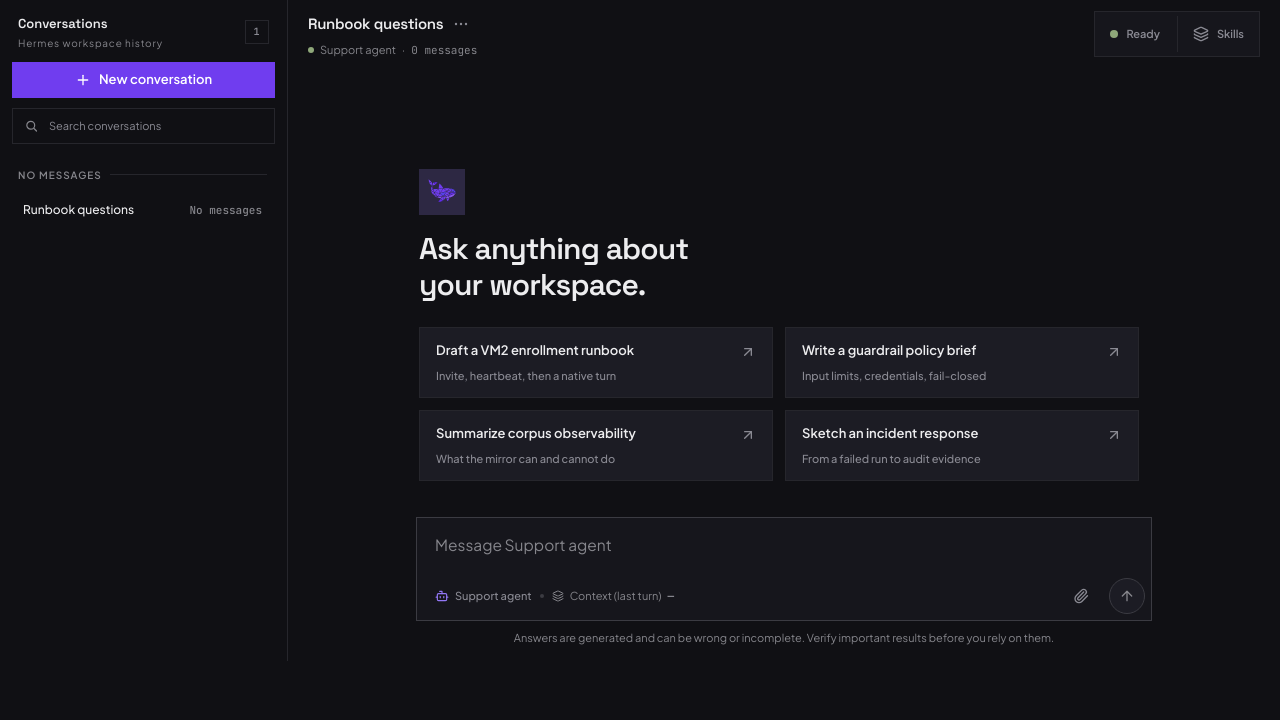
Test: chat composer › keeps the message when the send fails, since nothing else can recover it
Click the text box named "Chat message" at point(784, 548), box [423,522,1145,574]
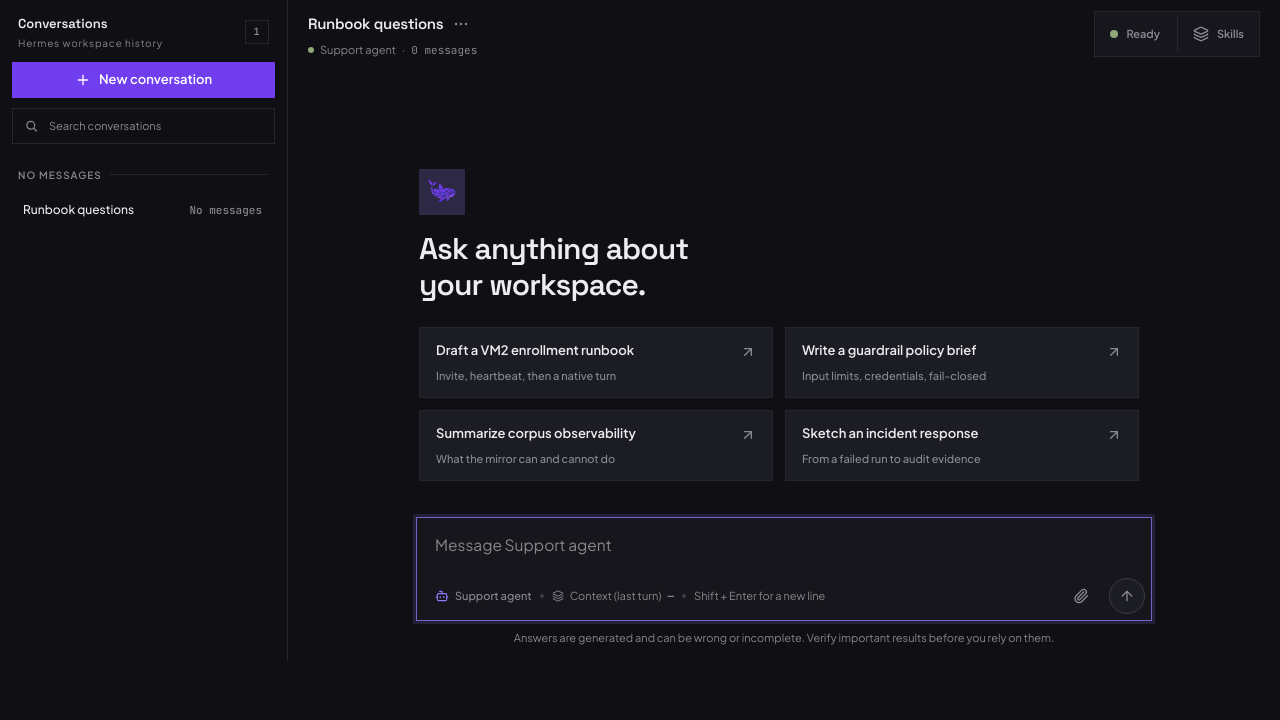
Type keys "Summarise the incident runbook for the on-call engineer"
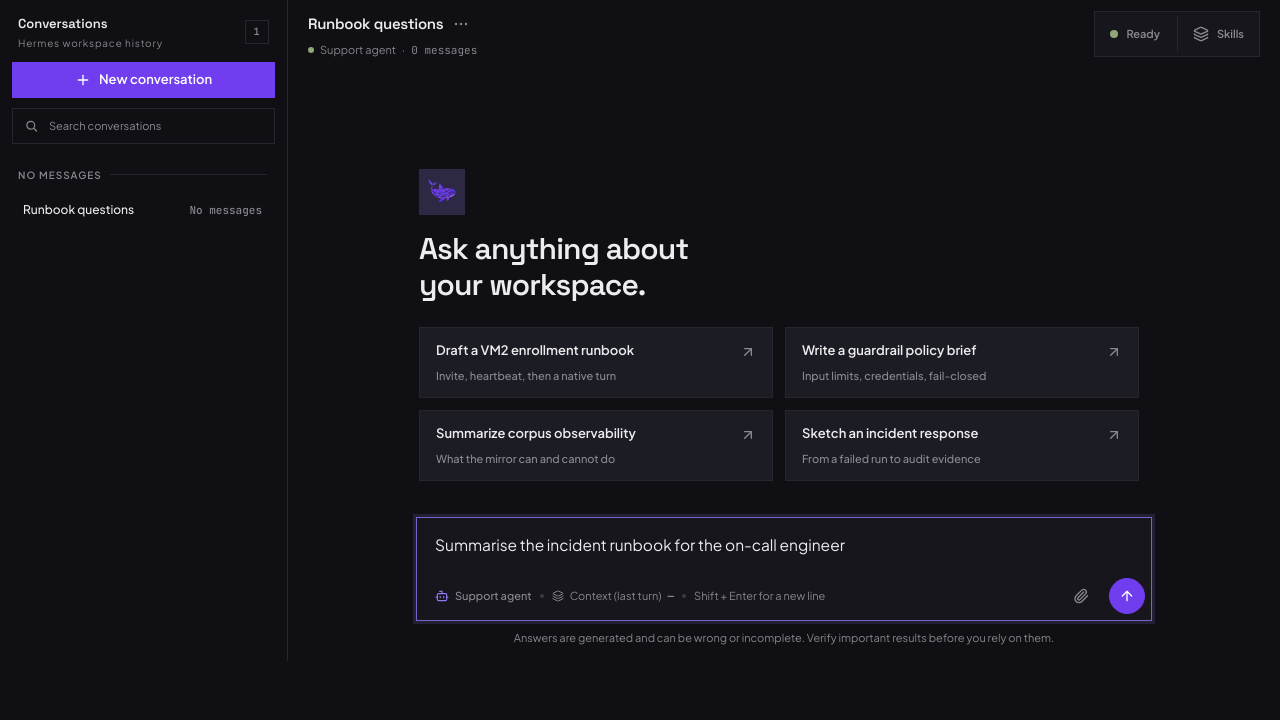
Click the button named "Send message" at point(1127, 596), box [1109,578,1145,614]
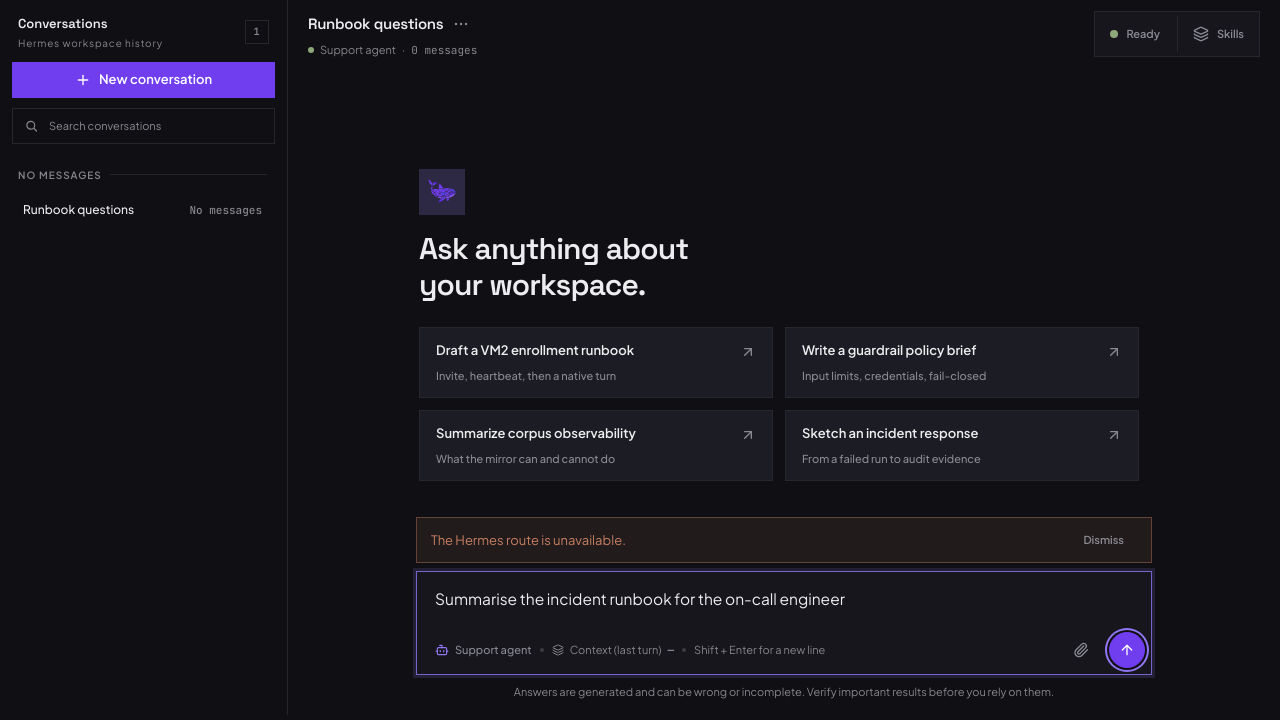
Check: the text box named "Chat message" holds "Summarise the incident runbook for the on-call engineer", box [423,576,1145,628]
Check: the text "The Hermes route is unavailable." is shown, box [431,530,626,550]
